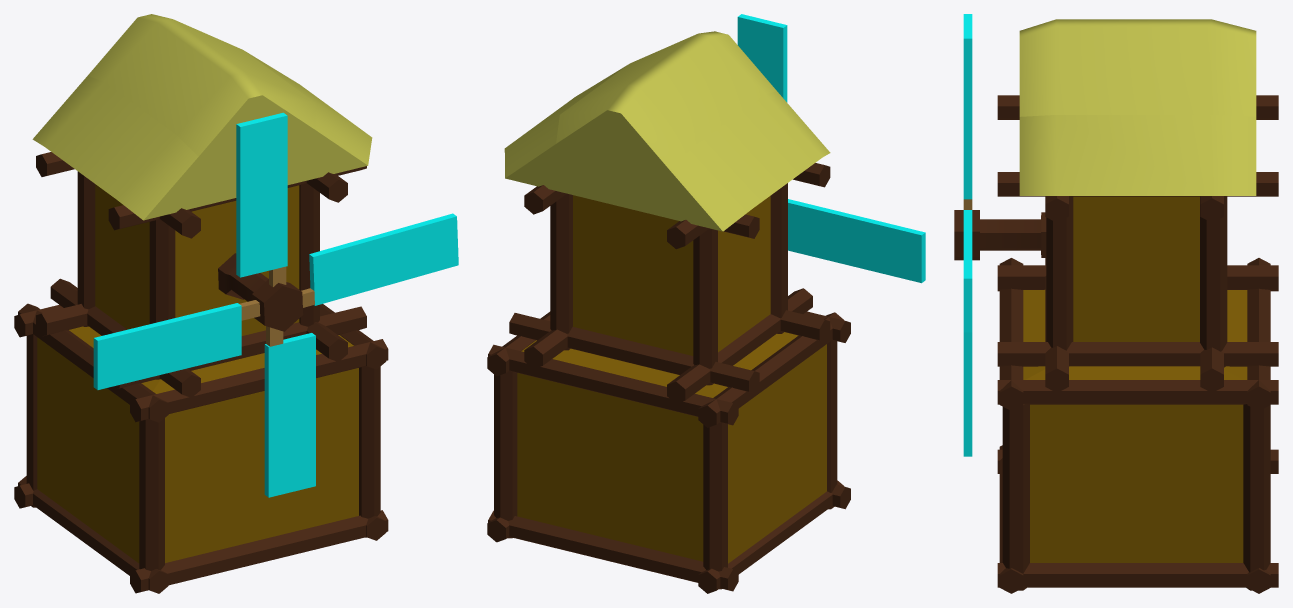
File: Windmill.fbx
3 views of the same model, side by side, from view 1: azimuth 30°, elevation 25°; view 2: azimuth 150°, elevation 25°; view 3: azimuth 270°, elevation 25° (orthographic). The views are drawn at different scales.
Visible parts, largest first — view 1: Windmill, Turnwheel; view 2: Windmill, Turnwheel; view 3: Windmill, Turnwheel.
Part boxes in pixels (x1,y1,x2,y2): Windmill: [14, 14, 388, 593]; Turnwheel: [93, 112, 458, 497]; Windmill: [487, 31, 850, 593]; Turnwheel: [737, 14, 925, 283]; Windmill: [997, 19, 1278, 593]; Turnwheel: [954, 14, 1046, 456].
Bounding box in the file's own units: 16.61 × 20.84 × 12.1.
